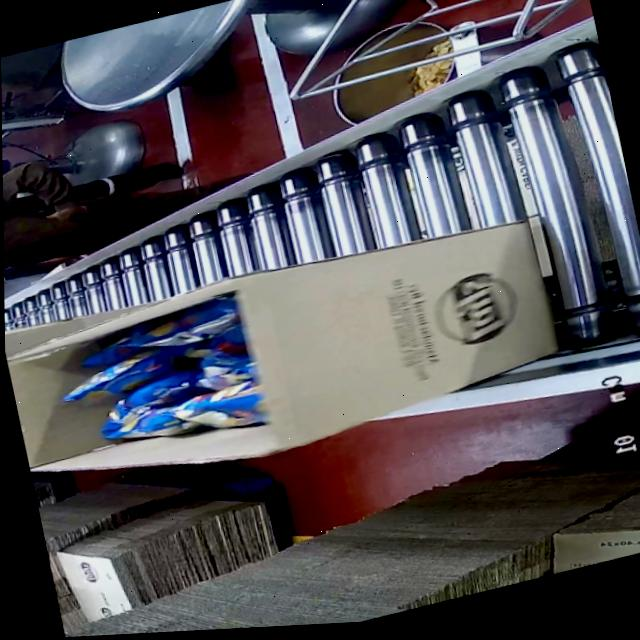PAPRIKA: (57, 305, 264, 466)
